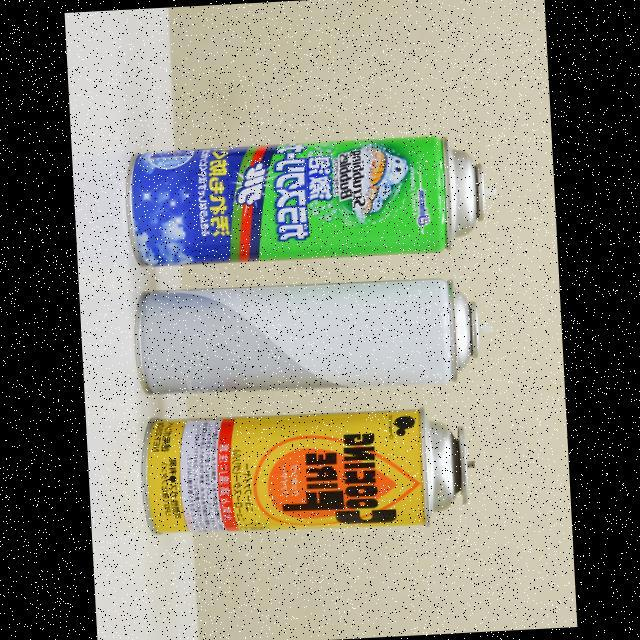chemical_spray_can: (82, 91, 518, 286), (114, 258, 502, 414), (128, 391, 488, 545)
